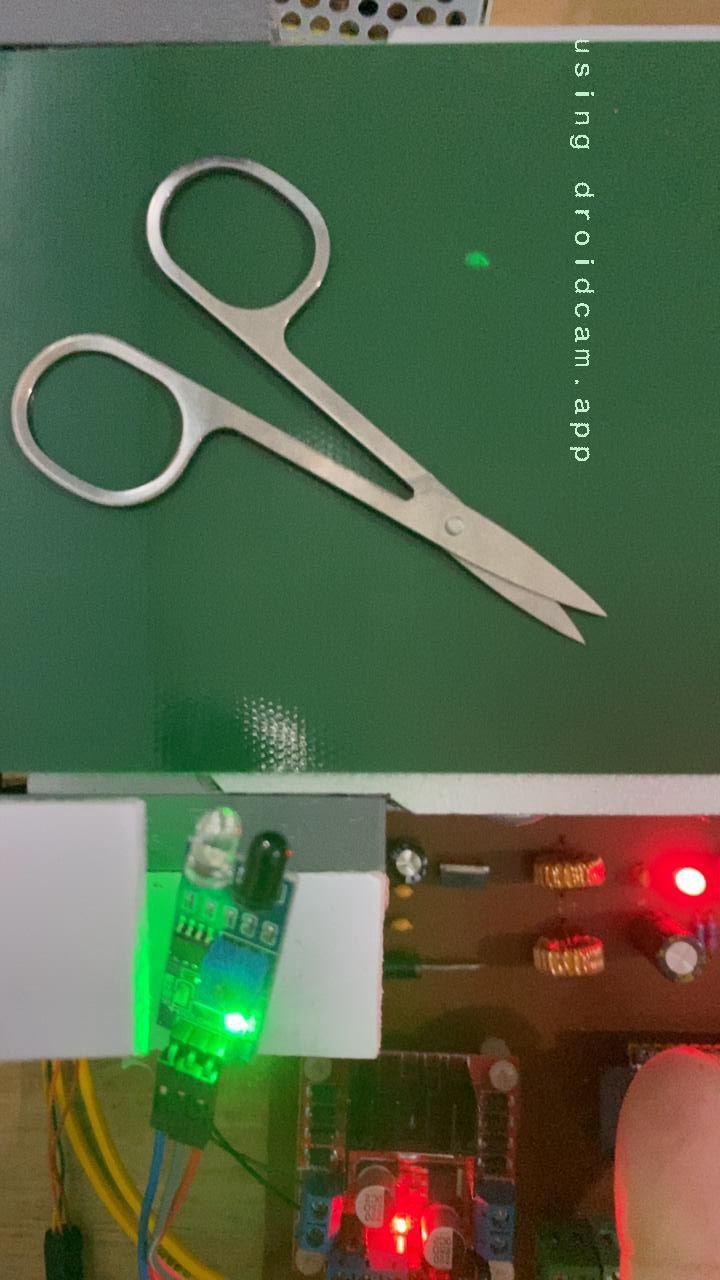scissor: (4, 150, 614, 650)
